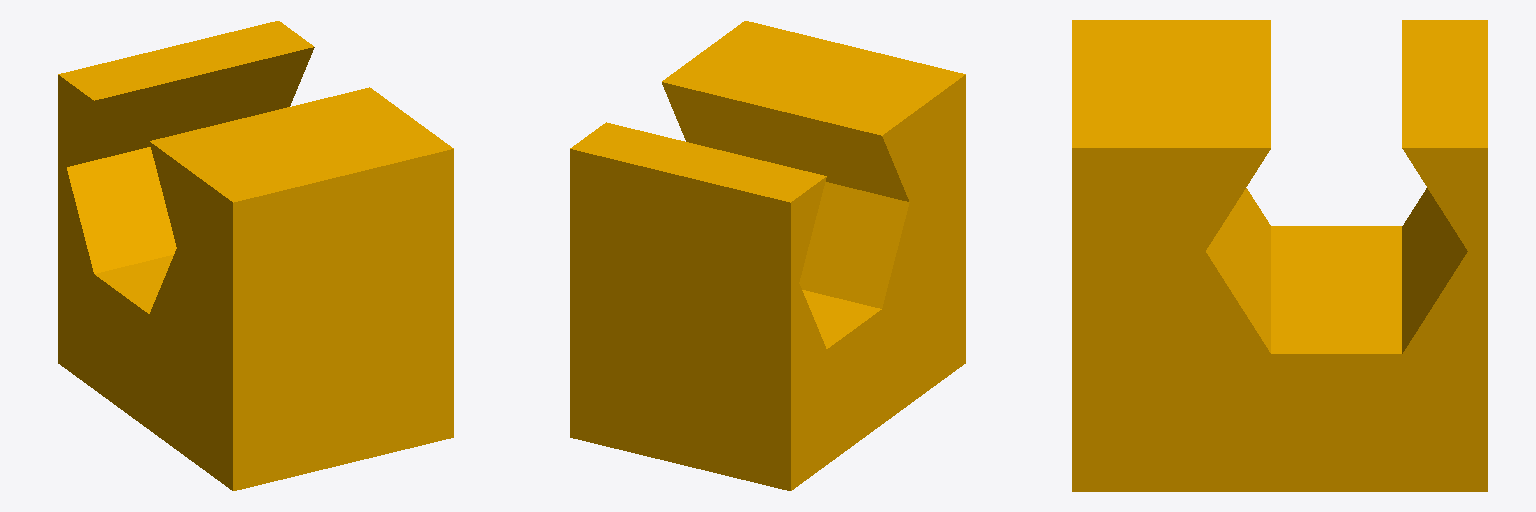
The robot description file, URDF, robot "hex_cubby":
<robot name="hex_cubby">
<link name="hex_cubby">
<visual>
<origin xyz="0 0.3168186187744140847 -0.0055341459050759905791" rpy="0 -0 0" />
<geometry>
<mesh filename="horizontal_wall_shapes/hex_cubby.obj"/>
</geometry>
<material name="hex_cubby_material">
<color rgba="0.98039215686274505668 0.71372549019607844922 0.0039215686274509803377 1.0"/>
</material>
</visual>
<collision>
<origin xyz="0 0.3168186187744140847 -0.0055341459050759905791" rpy="0 -0 0" />
<geometry>
<mesh filename="horizontal_wall_shapes/hex_cubby.obj"/>
</geometry>
</collision>
<inertial>
<origin xyz="7.2887639356613829165e-19 -0.052332384297446965515 0.0052234876034041154841" rpy="0 0 0"/>
<mass value="100" />
<inertia ixx="0.96380684697936136462" ixy="0"  ixz="0" iyy="0.65443939391432182084" iyz="0.078722879658699465577" izz="0.81646263621522996434" />
</inertial>
</link>


</robot>

--- What the picture shows (computed from the rendered views, not written in the file) ---
Views: 3 orthographic renders of the robot side by side, from view 1: azimuth 30°, elevation 25°; view 2: azimuth 150°, elevation 25°; view 3: azimuth 270°, elevation 25°.
Robot: hex_cubby — 1 links, 0 joints (none); root link hex_cubby; default pose: every joint at zero.
Visible links, largest first — view 1: hex_cubby; view 2: hex_cubby; view 3: hex_cubby.
Boxes of the visible links, left/top/right/bottom form: hex_cubby: left=58, top=21, right=453, bottom=490; hex_cubby: left=570, top=21, right=965, bottom=490; hex_cubby: left=1072, top=20, right=1487, bottom=491.
Size in the robot's own frame: 0.2 by 0.275 by 0.25 metres.
Meshes: 1 distinct files referenced, 1 mesh visuals loaded (1 OBJ).